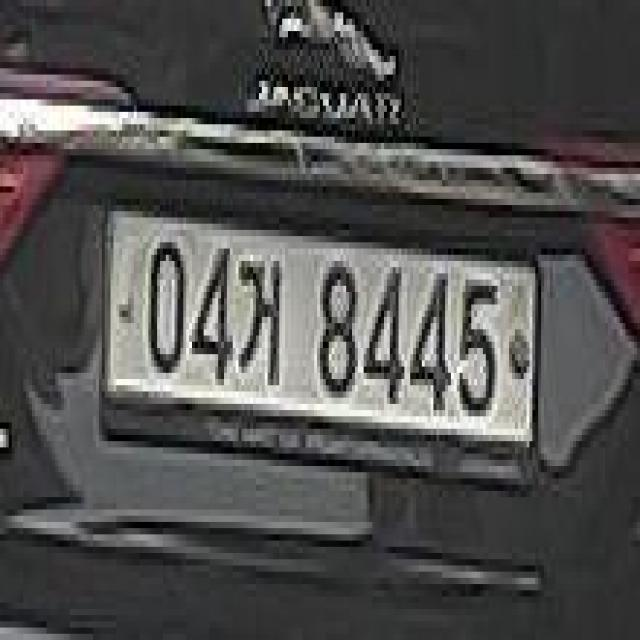illegal_plate: (97, 196, 545, 497)
